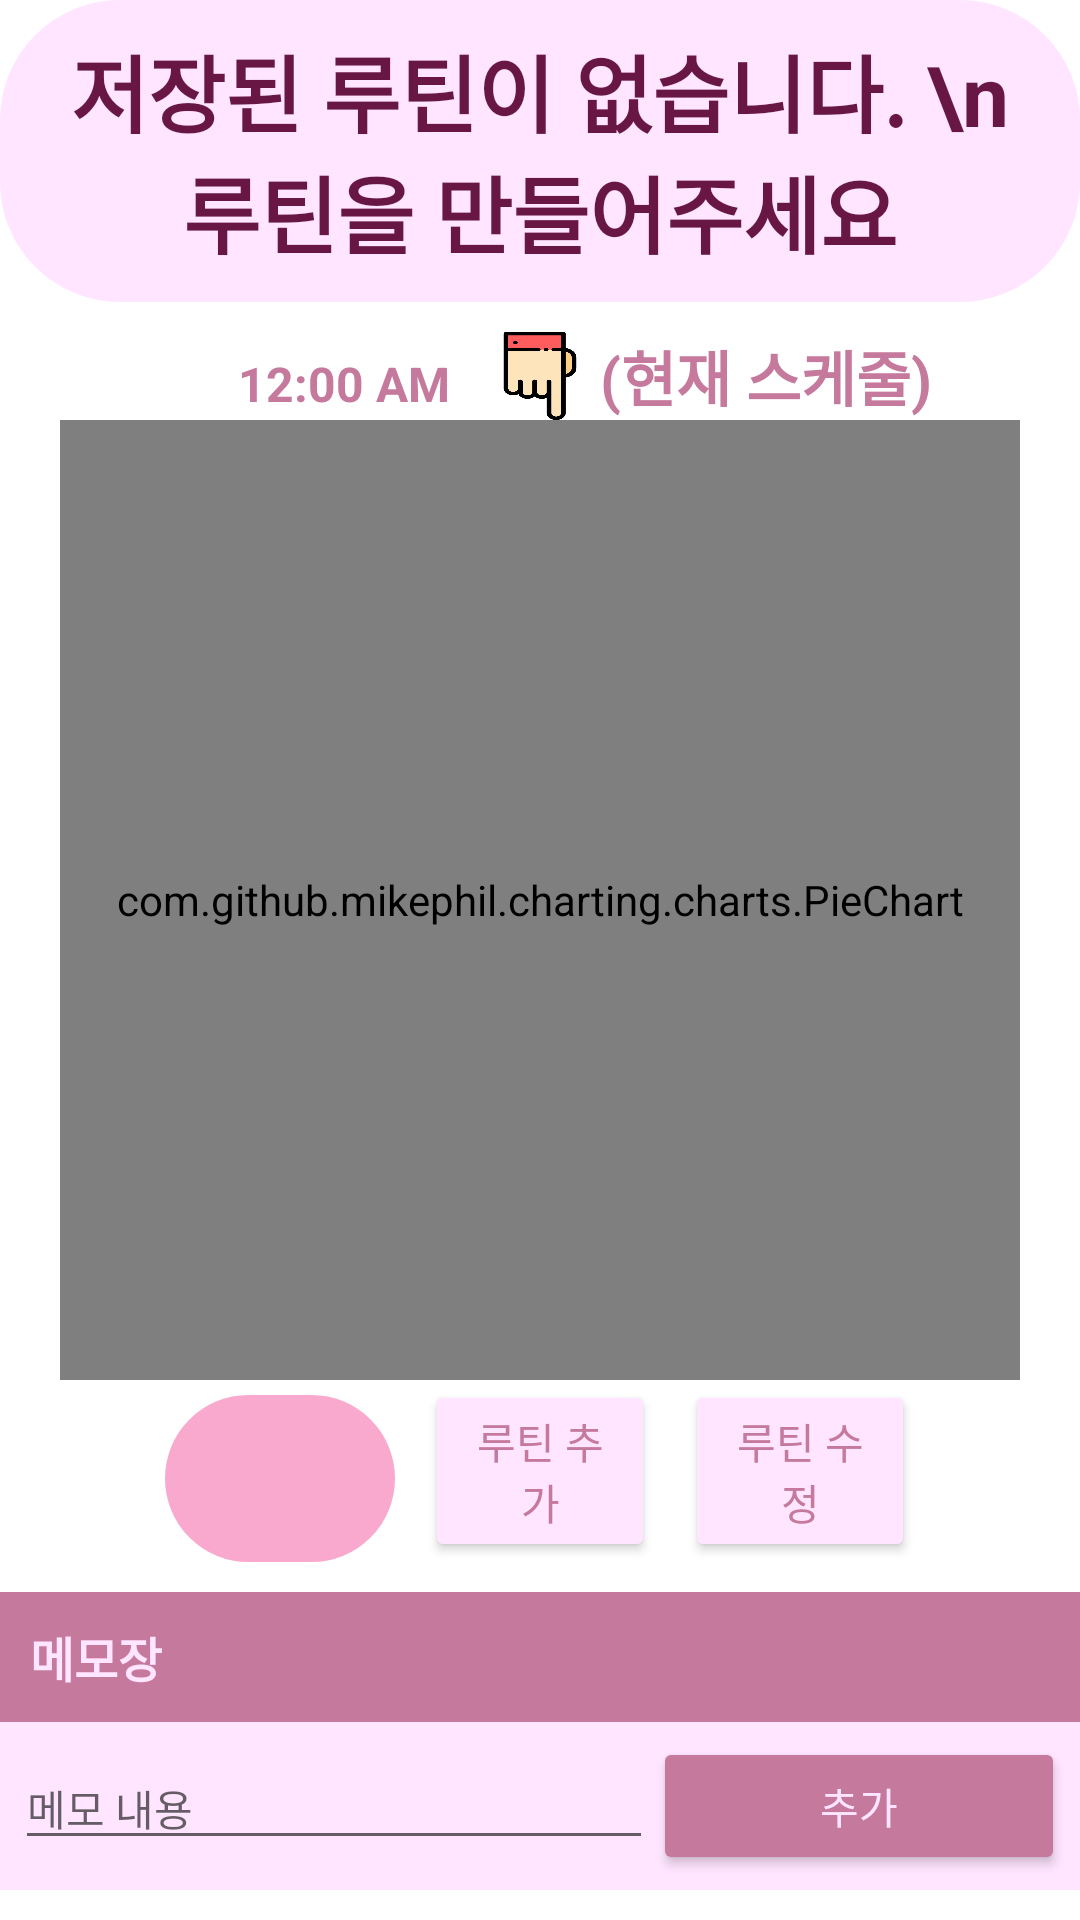

Where to tap for icons on this 1080 x 1920 app screen, as (x,y):
point under: (540,376)
